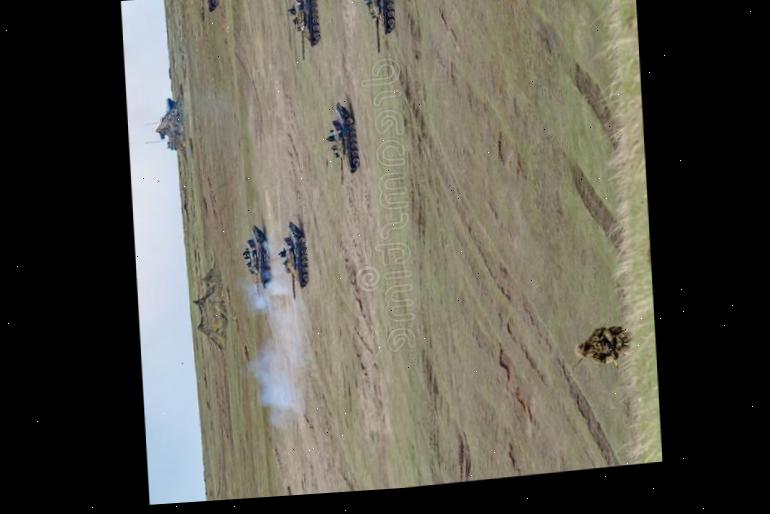tank: (320, 100, 365, 193), (237, 224, 276, 309), (281, 0, 321, 67), (359, 0, 403, 56), (189, 0, 224, 21)
